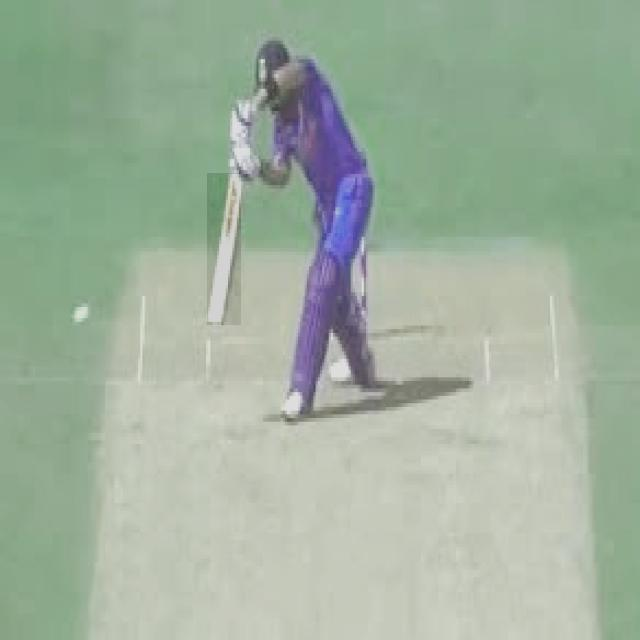bat: (207, 173, 240, 327)
toe: (201, 316, 230, 328)
